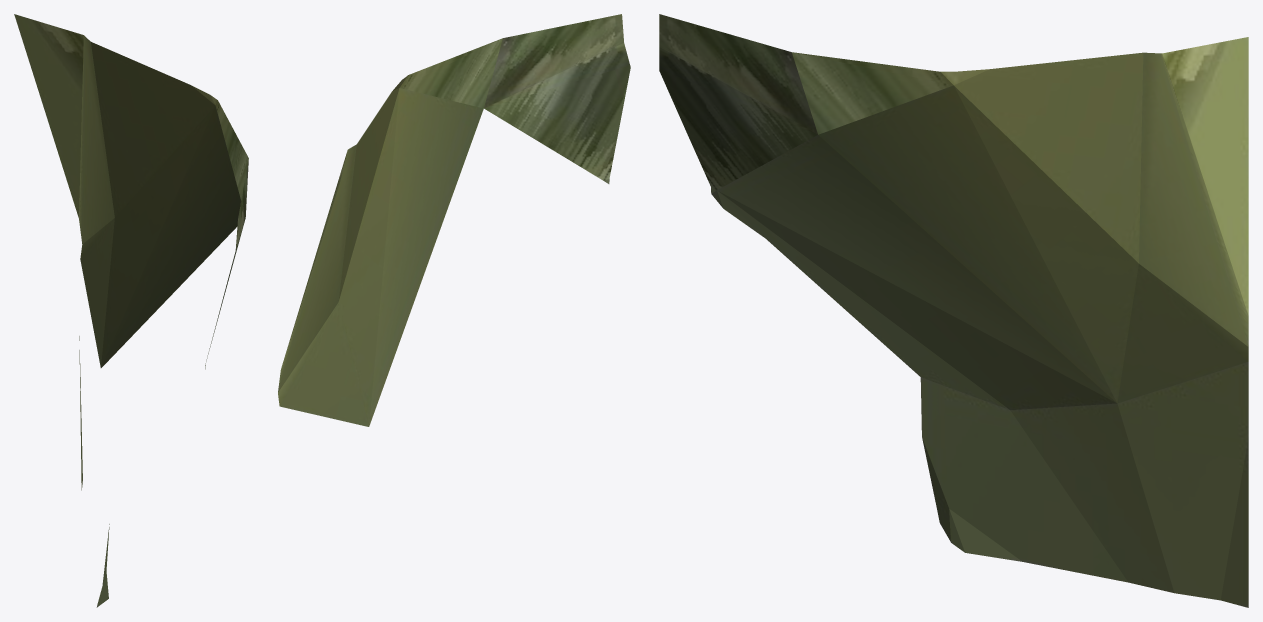
3 renders of one model, left to right at view 1: azimuth 30°, elevation 25°; view 2: azimuth 150°, elevation 25°; view 3: azimuth 270°, elevation 25°, orthographic. The views are drawn at different scales.
Bounding box in the file's own units: 0.7733 × 2.95 × 2.95.
Materials: 2 (2 with a texture image).
